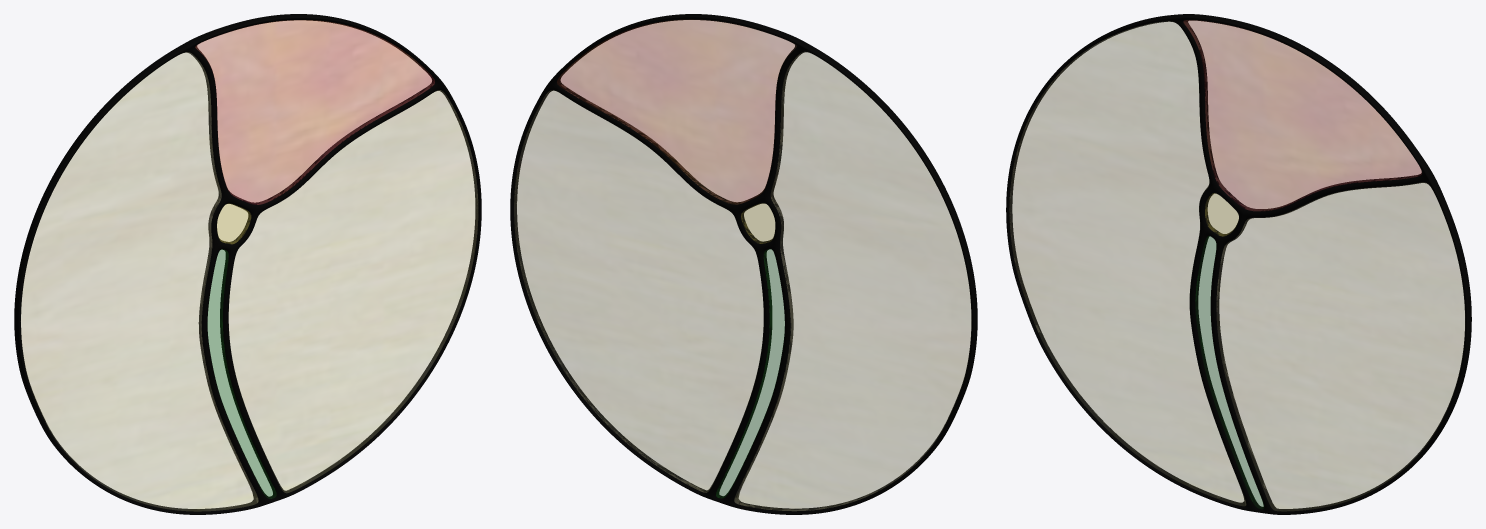
Rendered from elementVitraj_2.glb.
The picture shows the model from 3 angles, left to right: view 1: azimuth 30°, elevation 25°; view 2: azimuth 150°, elevation 25°; view 3: azimuth 330°, elevation 25°; orthographic projection.
Parts seen in each view (by area): view 1: D0_1, D2_1, D1_1, D5_1, D4_1, D3_1; view 2: D0_1, D2_1, D1_1, D5_1, D4_1, D3_1; view 3: D0_1, D2_1, D1_1, D5_1, D4_1, D3_1.
Boxes of the visible parts, <box> form: D0_1: <box>21,52,258,511</box>; D2_1: <box>229,90,477,492</box>; D1_1: <box>195,20,434,204</box>; D5_1: <box>14,14,481,514</box>; D4_1: <box>207,249,276,498</box>; D3_1: <box>217,203,250,243</box>; D0_1: <box>734,52,971,510</box>; D2_1: <box>514,90,763,492</box>; D1_1: <box>557,19,796,204</box>; D5_1: <box>510,14,977,514</box>; D4_1: <box>716,249,784,498</box>; D3_1: <box>741,203,774,243</box>; D0_1: <box>1009,21,1245,505</box>; D2_1: <box>1216,182,1464,511</box>; D1_1: <box>1183,20,1421,210</box>; D5_1: <box>1006,14,1471,514</box>; D4_1: <box>1195,236,1263,508</box>; D3_1: <box>1205,193,1238,236</box>.
Size of the model in its own units: 23.98 by 24.03 by 0.4514.
6 materials, 3 textured.
